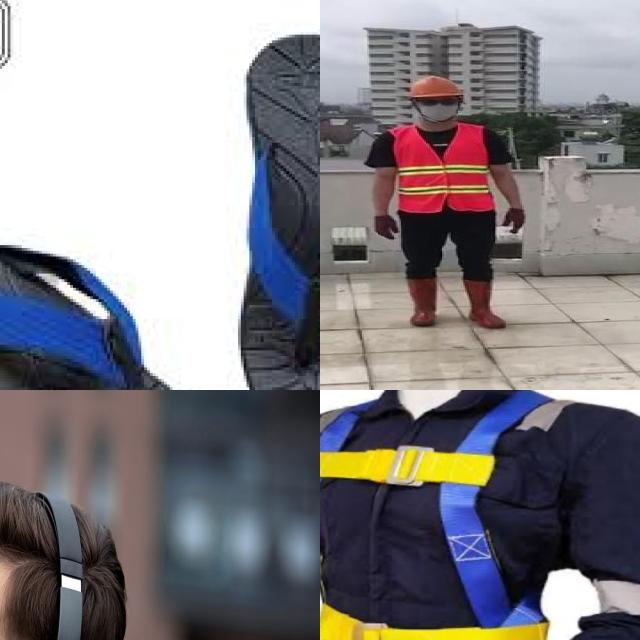Ear-protection: (0, 473, 142, 640)
Harness: (320, 392, 555, 640)
Sandals: (0, 4, 320, 390)
boots: (462, 276, 509, 328), (403, 274, 442, 327)
head_helmet: (406, 75, 464, 99)
person: (362, 72, 536, 330)
vest: (385, 124, 499, 214)
